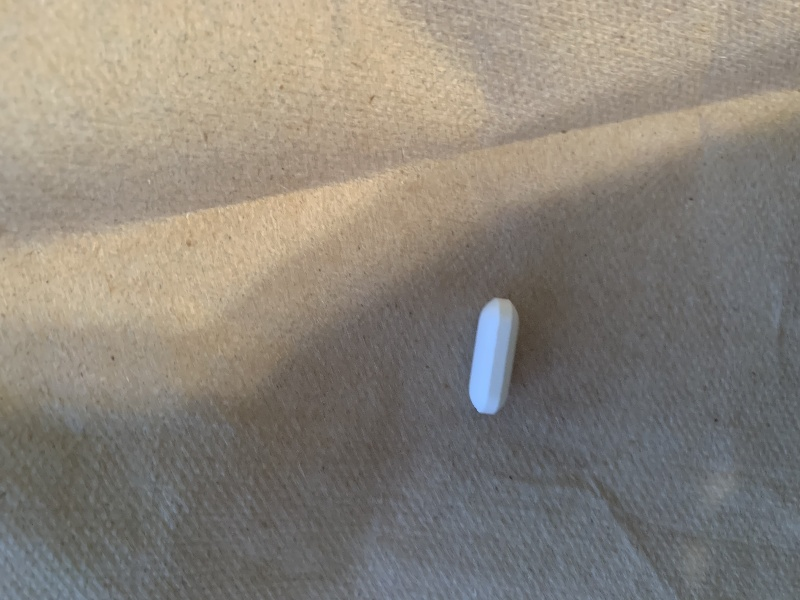Tylenol: (464, 292, 522, 422)
